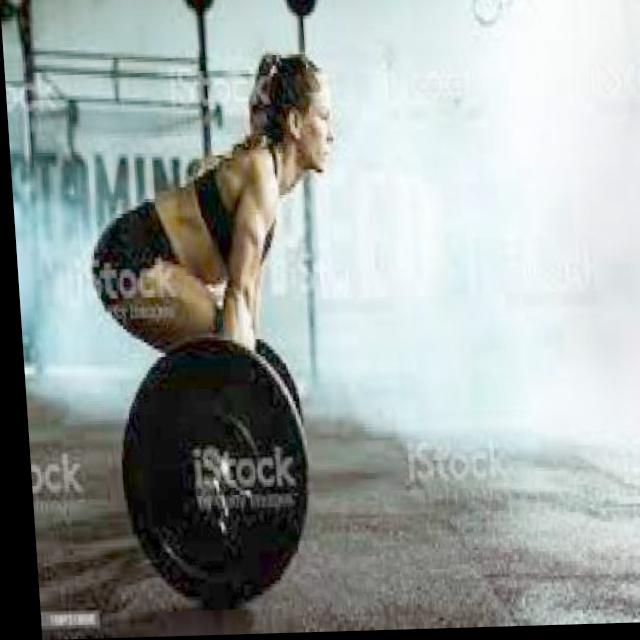barbell: (101, 331, 317, 619)
